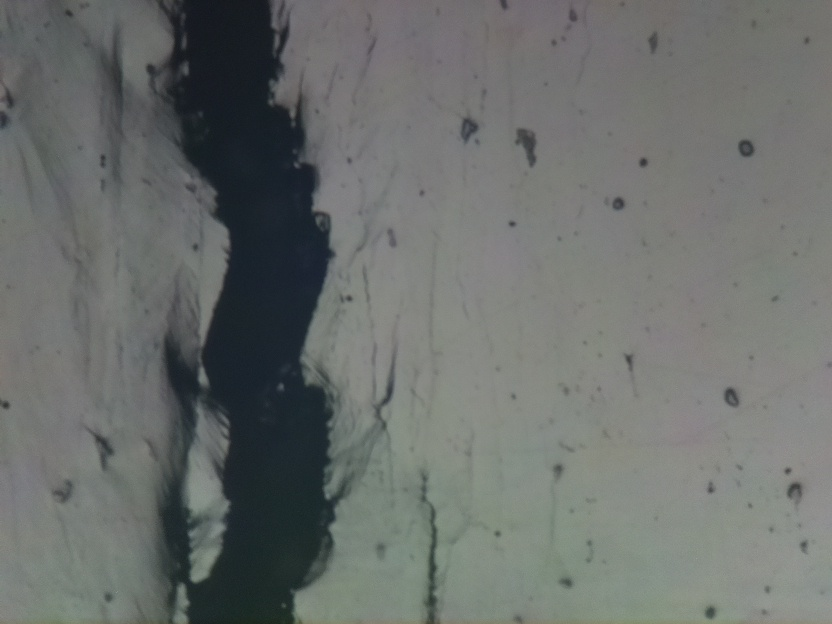crack: (172, 0, 339, 621), (419, 476, 447, 624), (373, 326, 406, 447)
